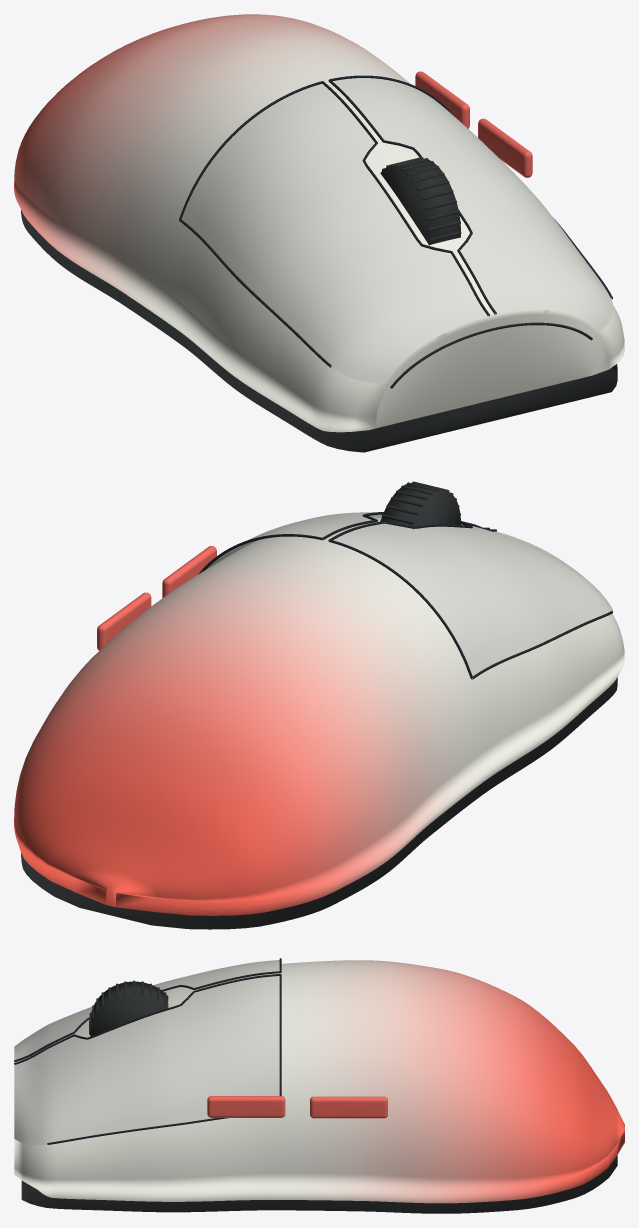
3 renders of one model, top to bottom at view 1: azimuth 30°, elevation 25°; view 2: azimuth 150°, elevation 25°; view 3: azimuth 270°, elevation 25°, orthographic. The views are drawn at different scales.
Visible parts, largest first — view 1: Mouse body GPX continuous rounded back, Left click panel, Scroll wheel, Left click outer seam, Side button left only; view 2: Mouse body GPX continuous rounded back, Left click panel, Scroll wheel, Left click outer seam, Side button left only; view 3: Mouse body GPX continuous rounded back, Left click panel, Scroll wheel, Side button left only, Left click outer seam.
Boxes of the visible parts, bbox=[...] form: Mouse body GPX continuous rounded back: bbox=[14, 14, 624, 432]; Left click panel: bbox=[181, 78, 612, 383]; Scroll wheel: bbox=[21, 157, 617, 452]; Left click outer seam: bbox=[179, 75, 612, 388]; Side button left only: bbox=[415, 71, 532, 177]; Mouse body GPX continuous rounded back: bbox=[14, 517, 624, 915]; Left click panel: bbox=[206, 512, 612, 678]; Scroll wheel: bbox=[21, 481, 617, 929]; Left click outer seam: bbox=[198, 512, 612, 679]; Side button left only: bbox=[97, 546, 216, 650]; Mouse body GPX continuous rounded back: bbox=[14, 960, 624, 1203]; Left click panel: bbox=[14, 960, 279, 1145]; Scroll wheel: bbox=[21, 980, 617, 1213]; Side button left only: bbox=[207, 1096, 387, 1118]; Left click outer seam: bbox=[14, 958, 281, 1144].
Size of the model in its own units: 0.0635 by 0.0404 by 0.1251.
